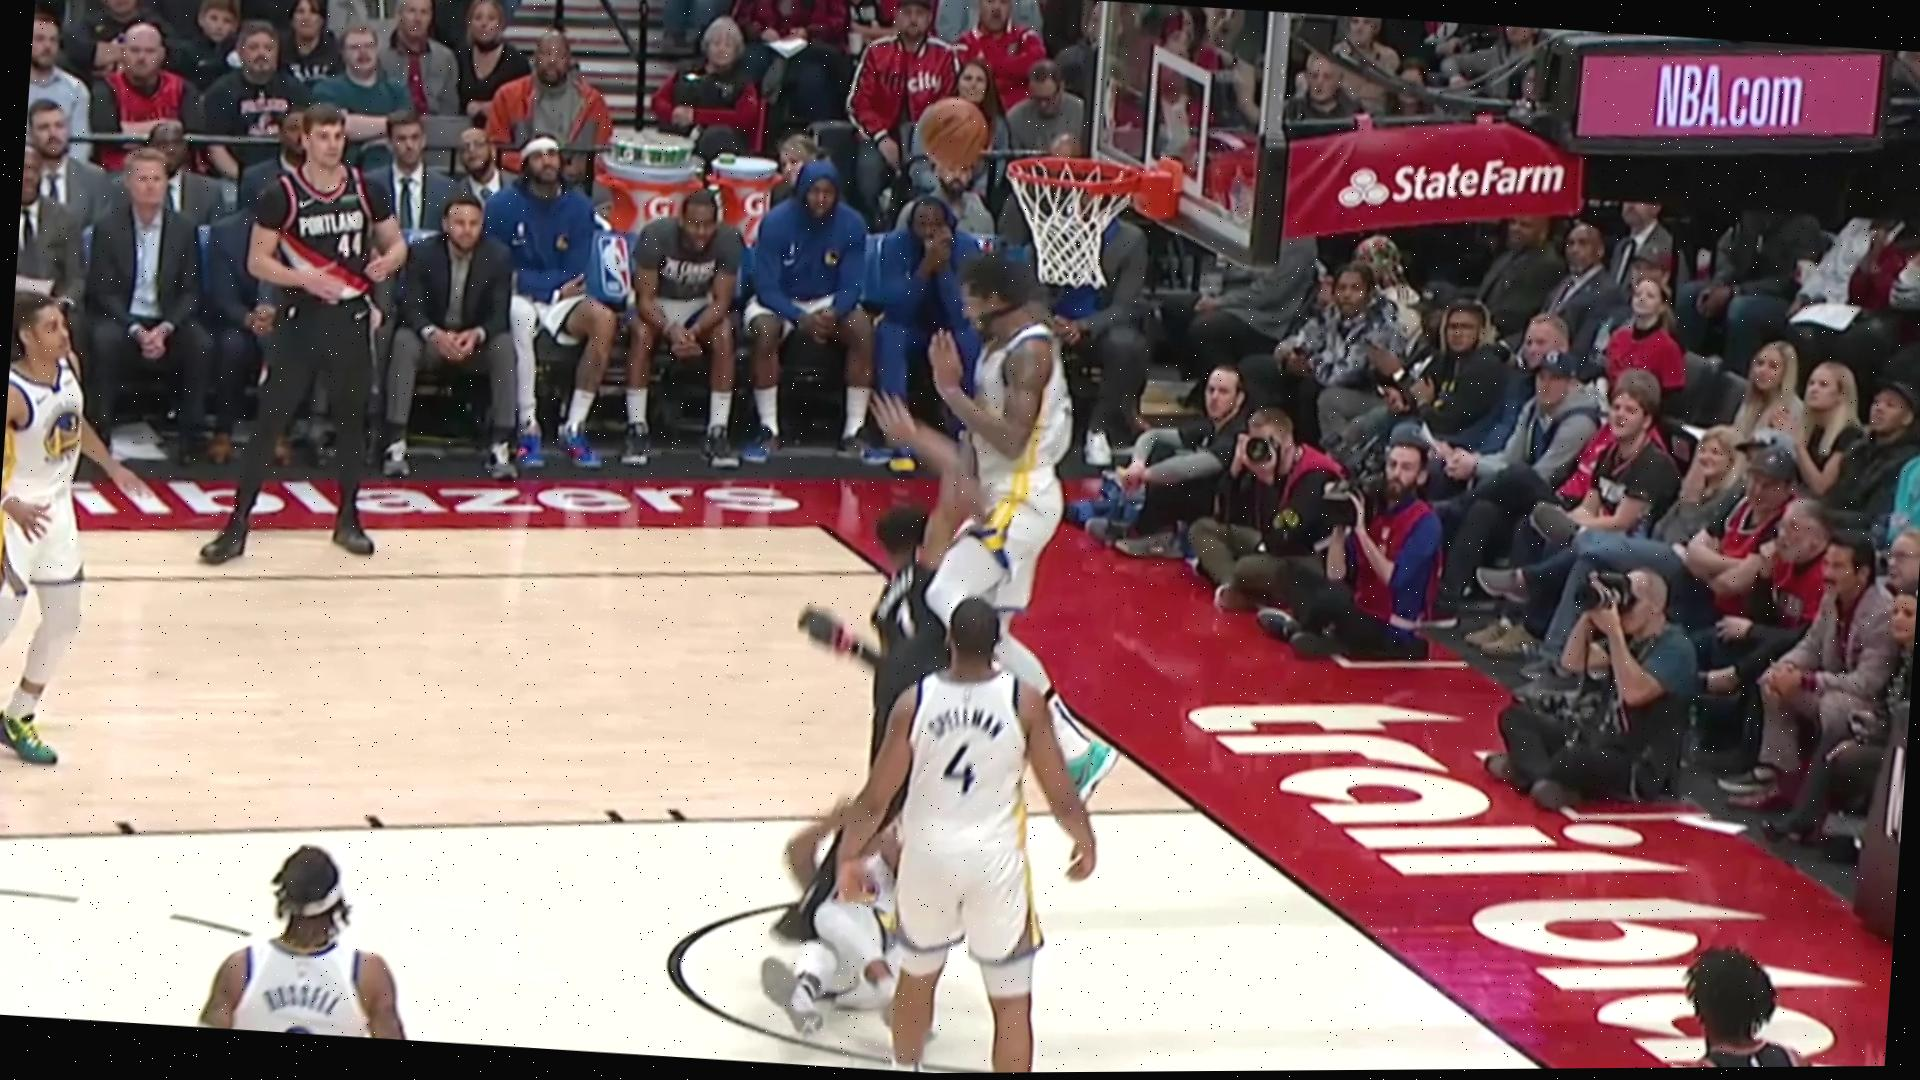no_foul: (753, 731, 910, 1015)
